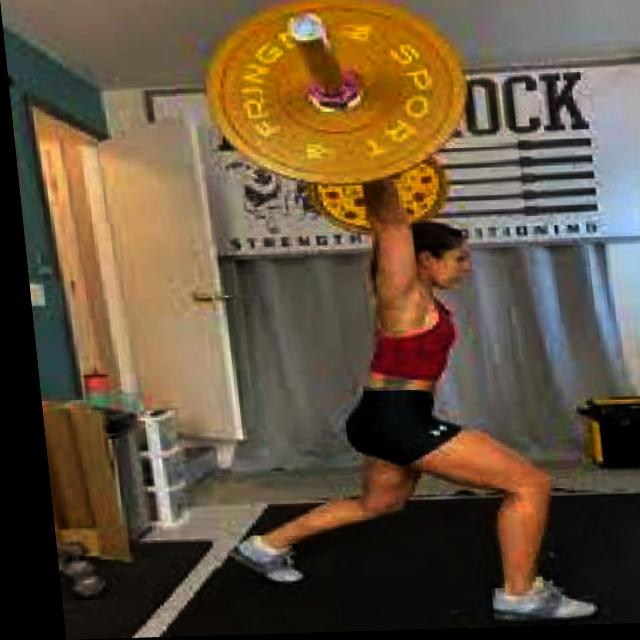barbell: (189, 1, 477, 194)
